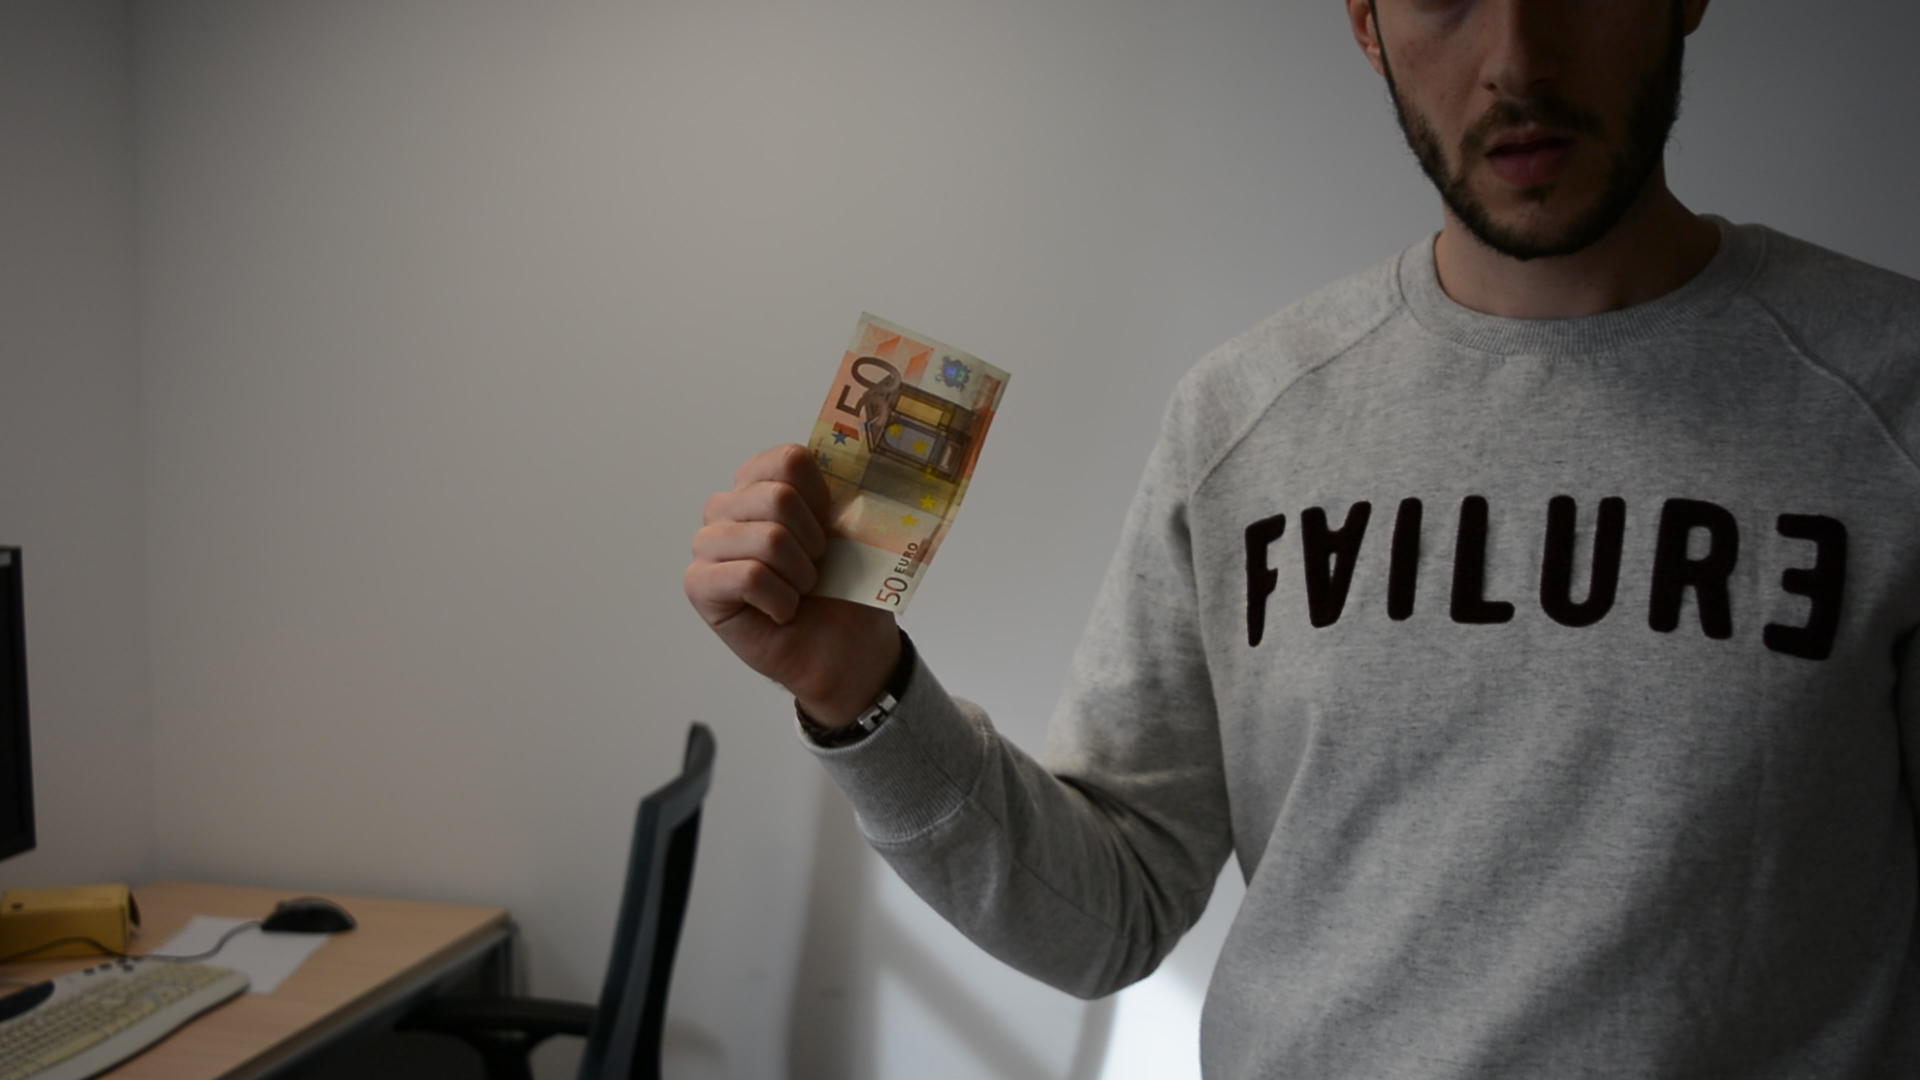billete: (799, 309, 1014, 617)
